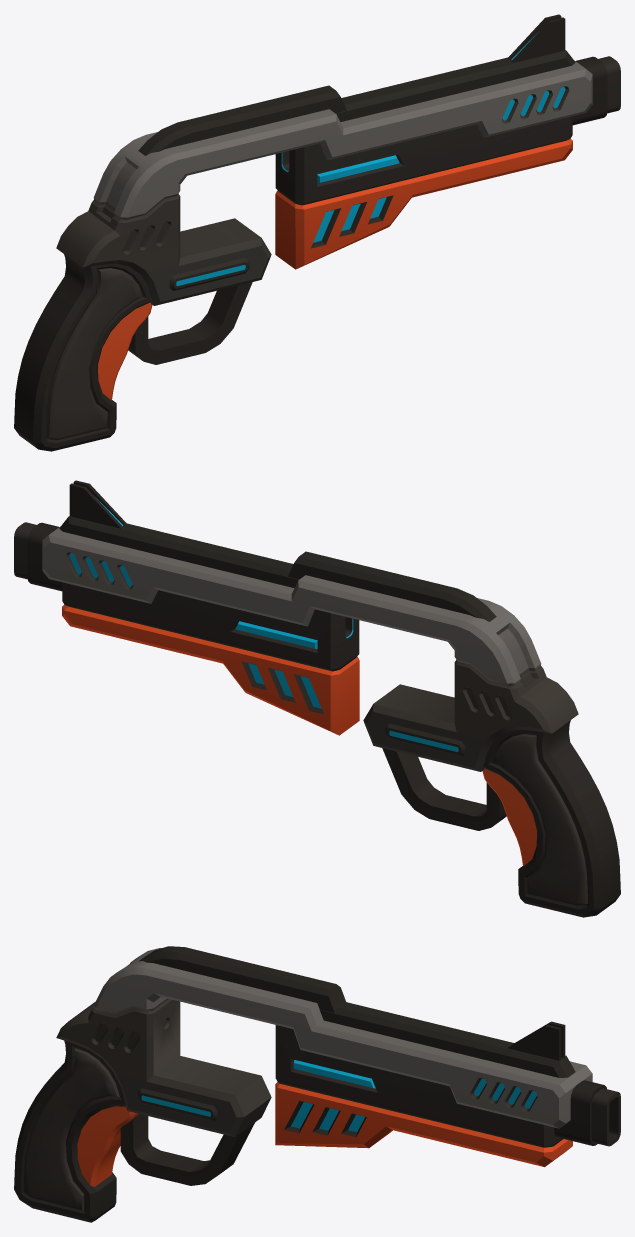
The model's file is Pistol5_Base.fbx.
The picture shows the model from 3 angles, top to bottom: view 1: azimuth 30°, elevation 25°; view 2: azimuth 150°, elevation 25°; view 3: azimuth 330°, elevation 25°; orthographic projection.
Visible parts, largest first — view 1: Pistol5_Base; view 2: Pistol5_Base; view 3: Pistol5_Base.
Part boxes in pixels (x1,y1,x2,y2): Pistol5_Base: [14, 14, 620, 451]; Pistol5_Base: [14, 480, 620, 917]; Pistol5_Base: [14, 946, 620, 1222].
Bounding box in the file's own units: 42.26 × 20.6 × 4.3.
